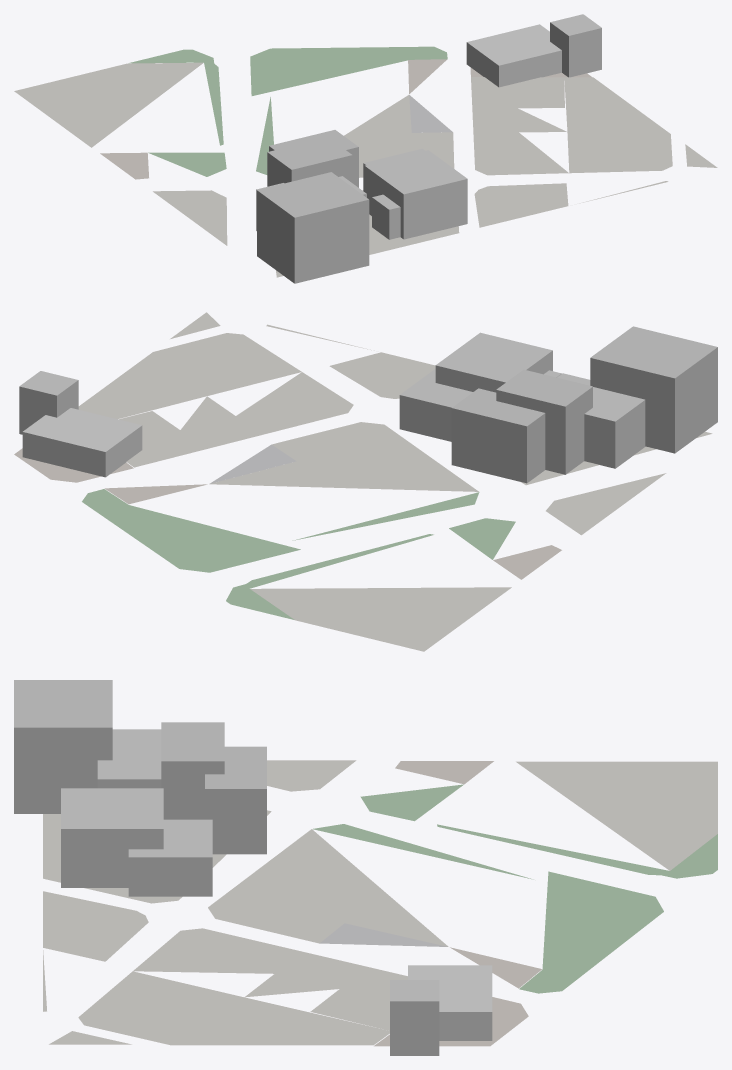
Rendered from 106_93_mid.glb.
3 renders of one model, top to bottom at view 1: azimuth 30°, elevation 25°; view 2: azimuth 150°, elevation 25°; view 3: azimuth 270°, elevation 25°, orthographic. The views are drawn at different scales.
Bounding box in the file's own units: 517 × 72.48 × 522.
